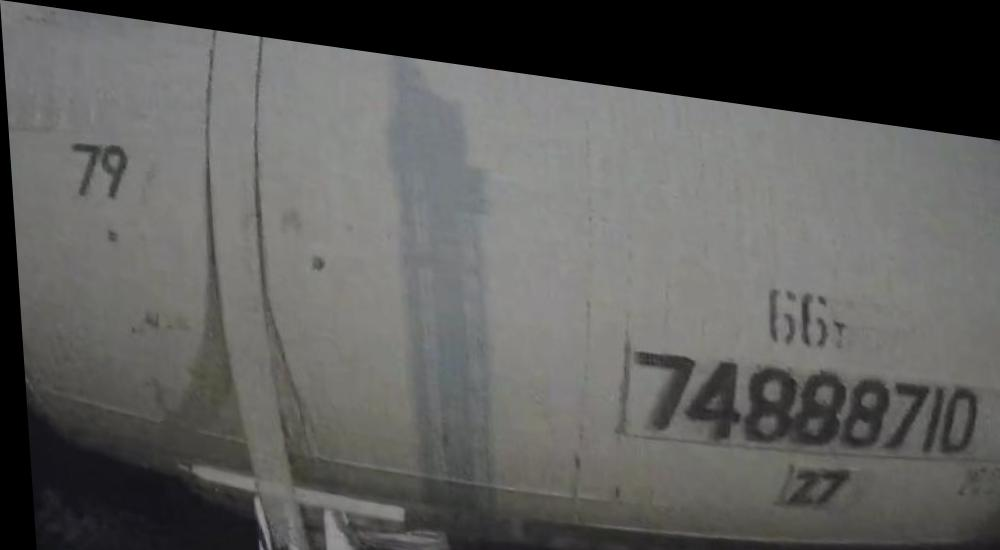Wagon-number: (625, 320, 987, 454)
